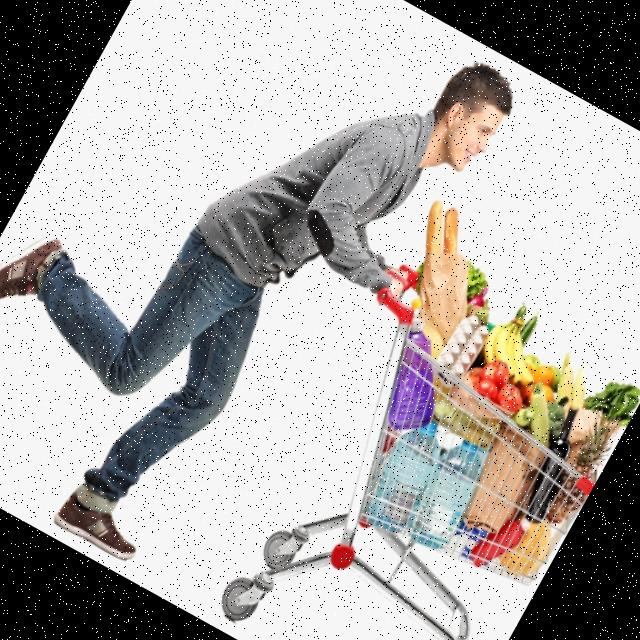Person: (0, 0, 526, 620)
